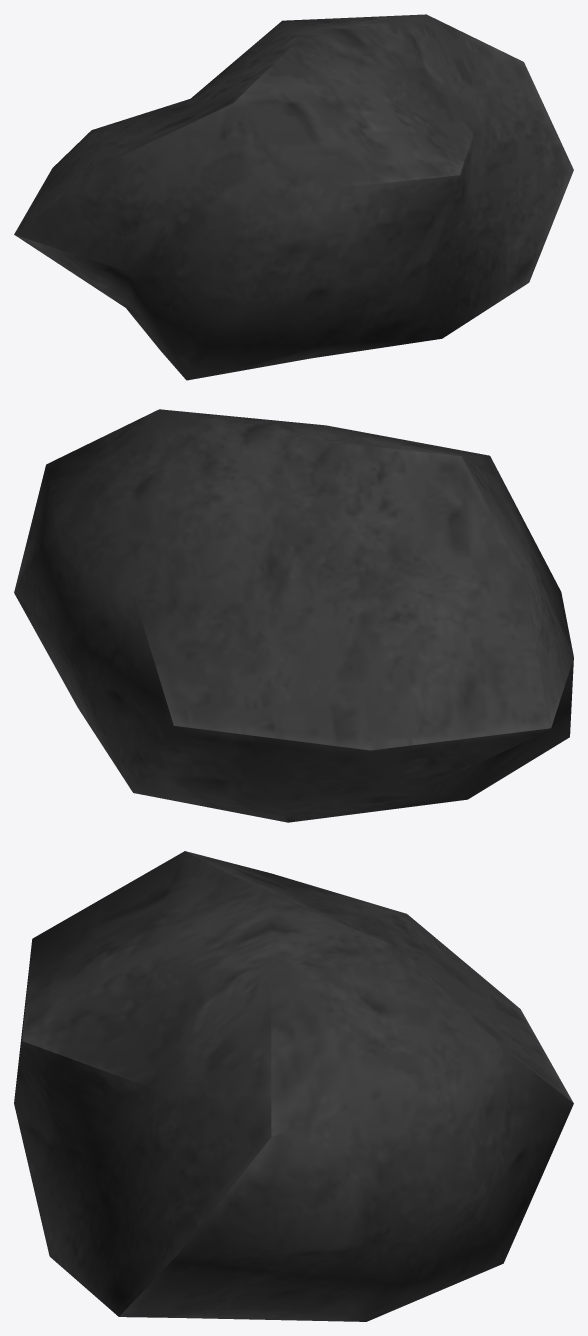
Rendered from rock_ash_0.glb.
3 renders of one model, top to bottom at view 1: azimuth 30°, elevation 25°; view 2: azimuth 150°, elevation 25°; view 3: azimuth 270°, elevation 25°, orthographic. The views are drawn at different scales.
Parts seen in each view (by area): view 1: te_prop_rock_ash_0; view 2: te_prop_rock_ash_0; view 3: te_prop_rock_ash_0.
Part boxes in pixels (left/top/right/bottom): te_prop_rock_ash_0: left=14, top=14, right=573, bottom=380; te_prop_rock_ash_0: left=14, top=409, right=573, bottom=822; te_prop_rock_ash_0: left=14, top=851, right=573, bottom=1321.
Size of the model in its own units: 0.2377 by 0.1292 by 0.1826.
Materials: 1 (1 with a texture image).
